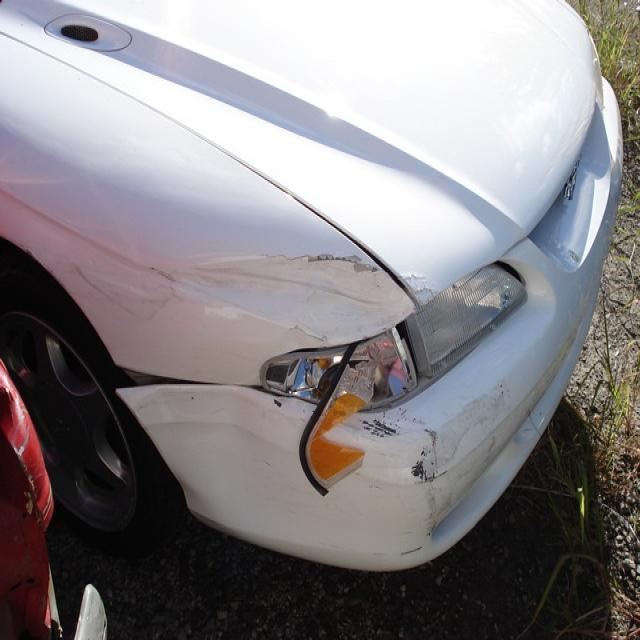dent: (135, 388, 283, 528)
misalignment: (116, 365, 215, 388), (248, 385, 282, 395)
scratch: (64, 252, 443, 348), (355, 377, 547, 560), (272, 396, 287, 411)
shatter: (267, 327, 416, 495)
